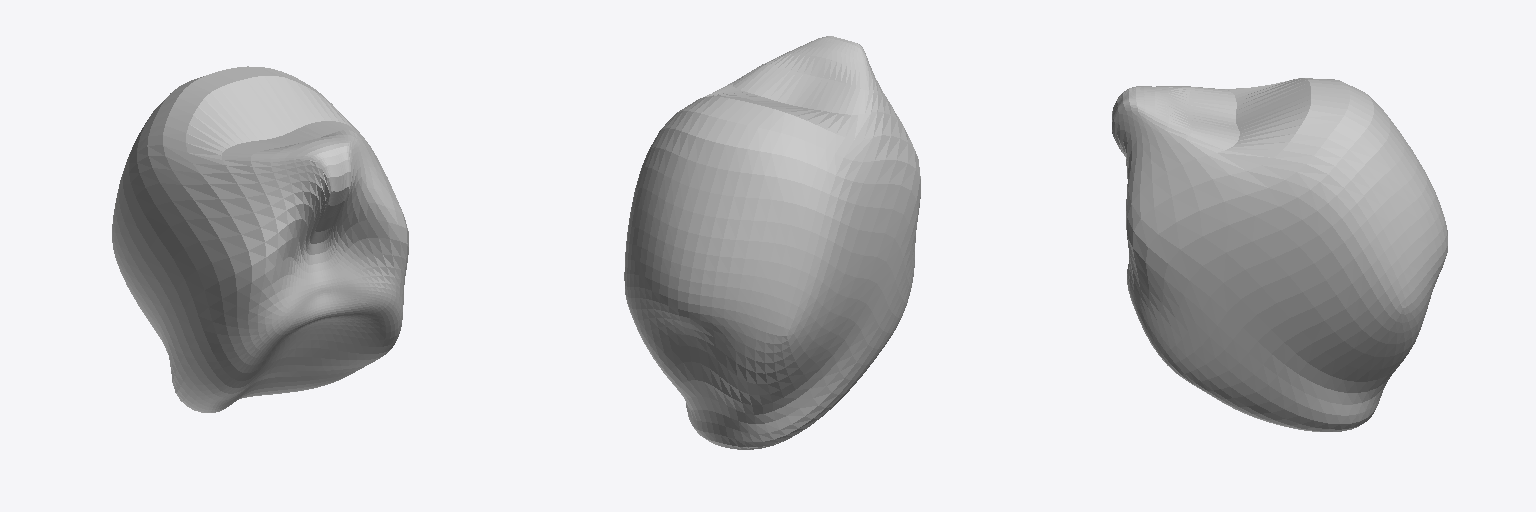
The model's file is vertabrae18.obj.
3 views of the same model, side by side, from view 1: azimuth 30°, elevation 25°; view 2: azimuth 150°, elevation 25°; view 3: azimuth 270°, elevation 25° (orthographic).
Parts seen in each view (by area): view 1: Cube.126_Cube.127; view 2: Cube.126_Cube.127; view 3: Cube.126_Cube.127.
Boxes of the visible parts, x1,y1,x2,y2 form: Cube.126_Cube.127: [112, 66, 408, 412]; Cube.126_Cube.127: [624, 36, 920, 449]; Cube.126_Cube.127: [1112, 78, 1447, 431].
Size of the model in its own units: 0.0863 by 0.1336 by 0.1242.